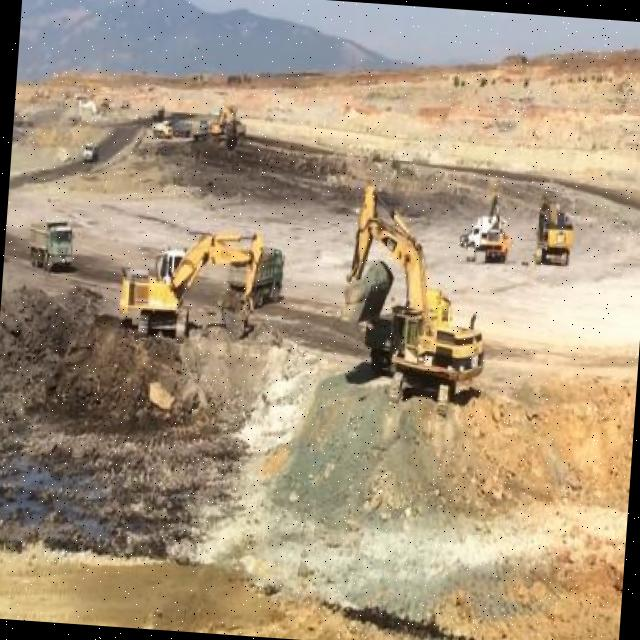Dump Truck: (225, 244, 286, 304), (24, 221, 76, 267), (484, 226, 510, 262), (80, 146, 98, 162)
Excavator: (332, 176, 496, 427), (110, 222, 266, 361), (530, 190, 576, 266)
